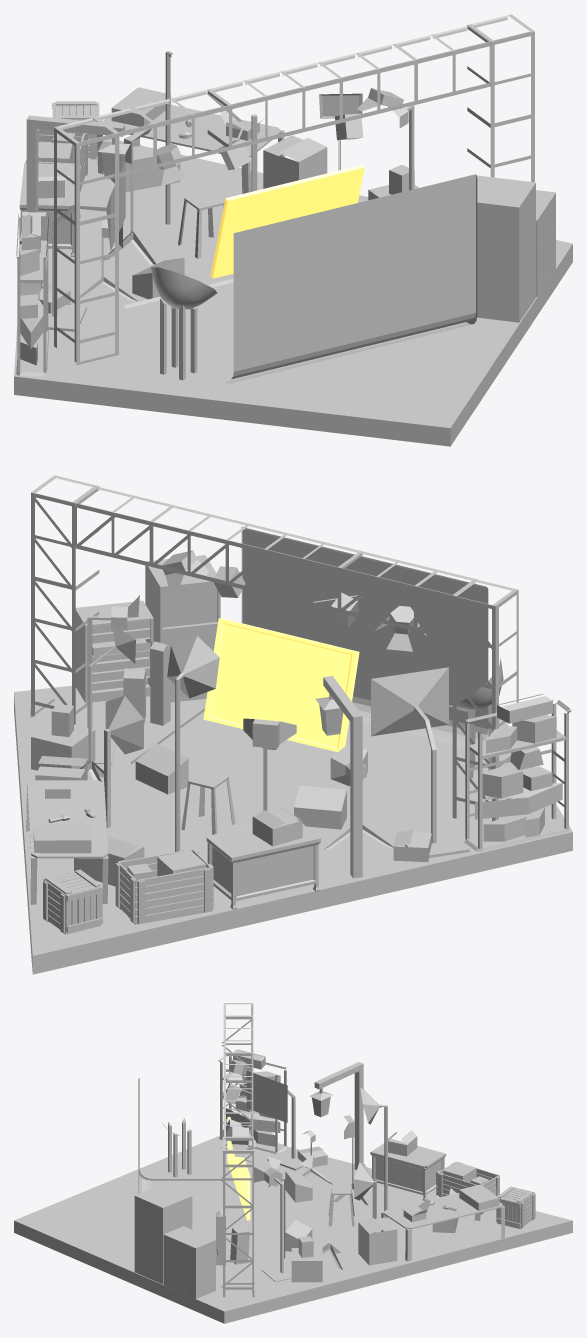
The model's file is lumiere.glb.
3 renders of one model, top to bottom at view 1: azimuth 30°, elevation 25°; view 2: azimuth 150°, elevation 25°; view 3: azimuth 270°, elevation 25°, orthographic. The views are drawn at different scales.
Parts seen in each view (by area): view 1: base.001, Cube.004, Cube.007, Cube.010, Tableau, Table, Cube.012, Cube.003, Etagere, Cube.005, Cube.019, Cube.014 (+19 smaller); view 2: base.001, Cube.004, Cube.007, Tableau, Cube.005, Cube.014, Cube.010, Cube.239, Caisse en Vrac.002, Table, Etagere, Cube.012 (+31 smaller); view 3: base.001, Cube.004, Cube.010, Cube.007, Cube.239, Cube.005, Cube.014, Table, Cube.012, Cube.003, Caisse en Vrac.006, Caisse en Vrac.002 (+19 smaller).
Boxes of the visible parts, x1=… form: base.001: x1=14, y1=138, x2=572, y2=446; Cube.004: x1=124, y1=174, x2=477, y2=383; Cube.007: x1=54, y1=14, x2=534, y2=365; Cube.010: x1=477, y1=175, x2=535, y2=322; Tableau: x1=210, y1=165, x2=364, y2=278; Table: x1=97, y1=105, x2=284, y2=193; Cube.012: x1=26, y1=115, x2=130, y2=236; Cube.003: x1=263, y1=135, x2=327, y2=188; Etagere: x1=16, y1=212, x2=49, y2=376; Cube.005: x1=19, y1=163, x2=80, y2=256; Cube.019: x1=160, y1=298, x2=197, y2=380; Cube.014: x1=35, y1=161, x2=125, y2=331; base.001: x1=14, y1=685, x2=572, y2=974; Cube.004: x1=130, y1=527, x2=488, y2=824; Cube.007: x1=30, y1=475, x2=518, y2=821; Tableau: x1=203, y1=618, x2=359, y2=752; Cube.005: x1=206, y1=817, x2=320, y2=909; Cube.014: x1=371, y1=667, x2=469, y2=857; Cube.010: x1=145, y1=555, x2=220, y2=702; Cube.239: x1=75, y1=600, x2=153, y2=702; Caisse en Vrac.002: x1=115, y1=848, x2=213, y2=924; Table: x1=26, y1=780, x2=108, y2=904; Etagere: x1=464, y1=699, x2=571, y2=851; Cube.012: x1=315, y1=676, x2=362, y2=878; base.001: x1=14, y1=1135, x2=572, y2=1323; Cube.004: x1=138, y1=1078, x2=285, y2=1259; Cube.010: x1=134, y1=1184, x2=192, y2=1284; Cube.007: x1=221, y1=1003, x2=254, y2=1297; Cube.239: x1=163, y1=1226, x2=217, y2=1298; Cube.005: x1=370, y1=1138, x2=446, y2=1200; Cube.014: x1=246, y1=1071, x2=306, y2=1170; Table: x1=381, y1=1193, x2=505, y2=1261; Cube.012: x1=309, y1=1062, x2=363, y2=1169; Cube.003: x1=358, y1=1217, x2=397, y2=1265; Caisse en Vrac.006: x1=496, y1=1186, x2=535, y2=1228; Caisse en Vrac.002: x1=436, y1=1161, x2=499, y2=1214.
Size of the model in its own units: 15.75 by 6.53 by 20.67.
